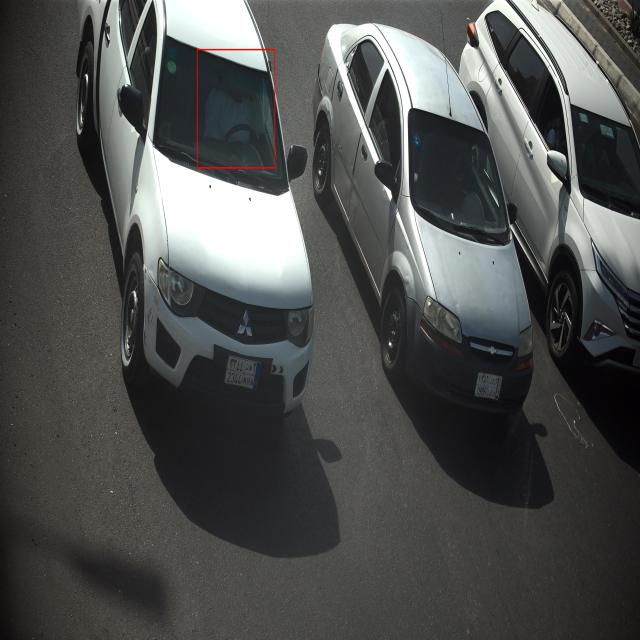windshield: (153, 31, 290, 206), (404, 99, 524, 256), (561, 97, 640, 230)
